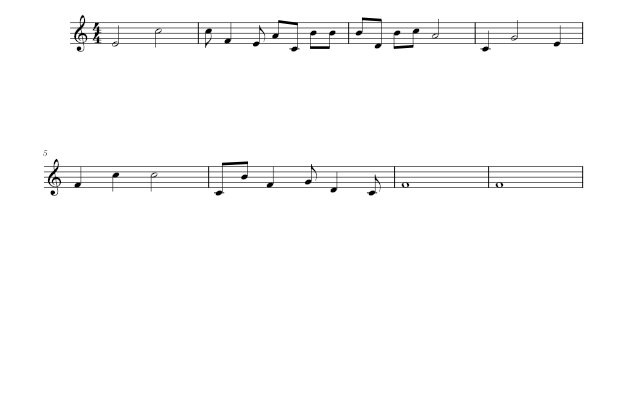Treble Clef: (68, 12, 90, 54), (44, 157, 66, 199)
